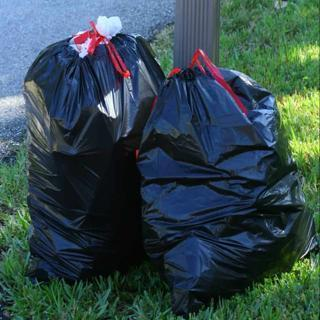Garbage: (140, 58, 319, 309), (22, 14, 167, 277)
